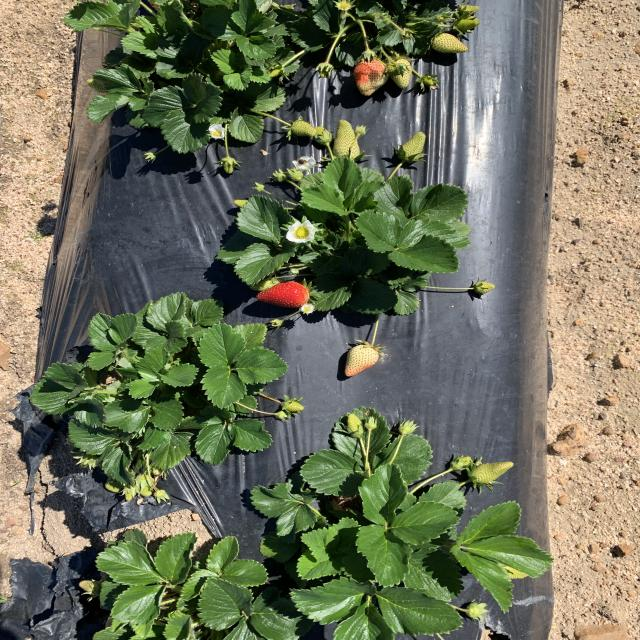unripe: (253, 281, 314, 309)
